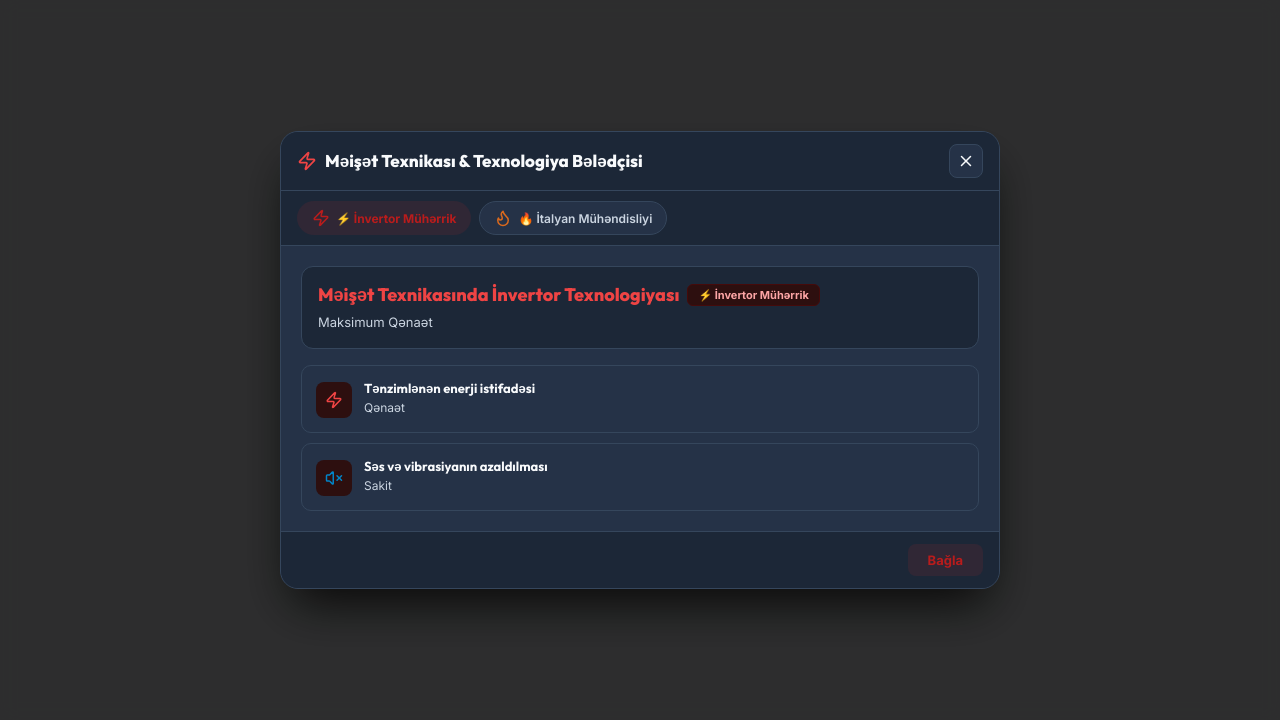
Sahara Electronic - UI Komponentləri və İstifadəçi Qarşılıqlı Əlaqə Testləri › InverterInfoModal komponenti açıldıqda texnologiya üstünlüklərini göstərməlidir və tablar arası keçid etməlidir
The image size is (1280, 720).
Check: the heading "Məişət Texnikasında İnvertor Texnologiyası" is shown, box [318, 283, 679, 306]
Check: the heading "Tənzimlənən enerji istifadəsi" is shown, box [364, 380, 535, 396]
Click on SABAF technology tab
Click the button "🔥 İtalyan Mühəndisliyi" at (573, 218), box [480, 201, 667, 235]
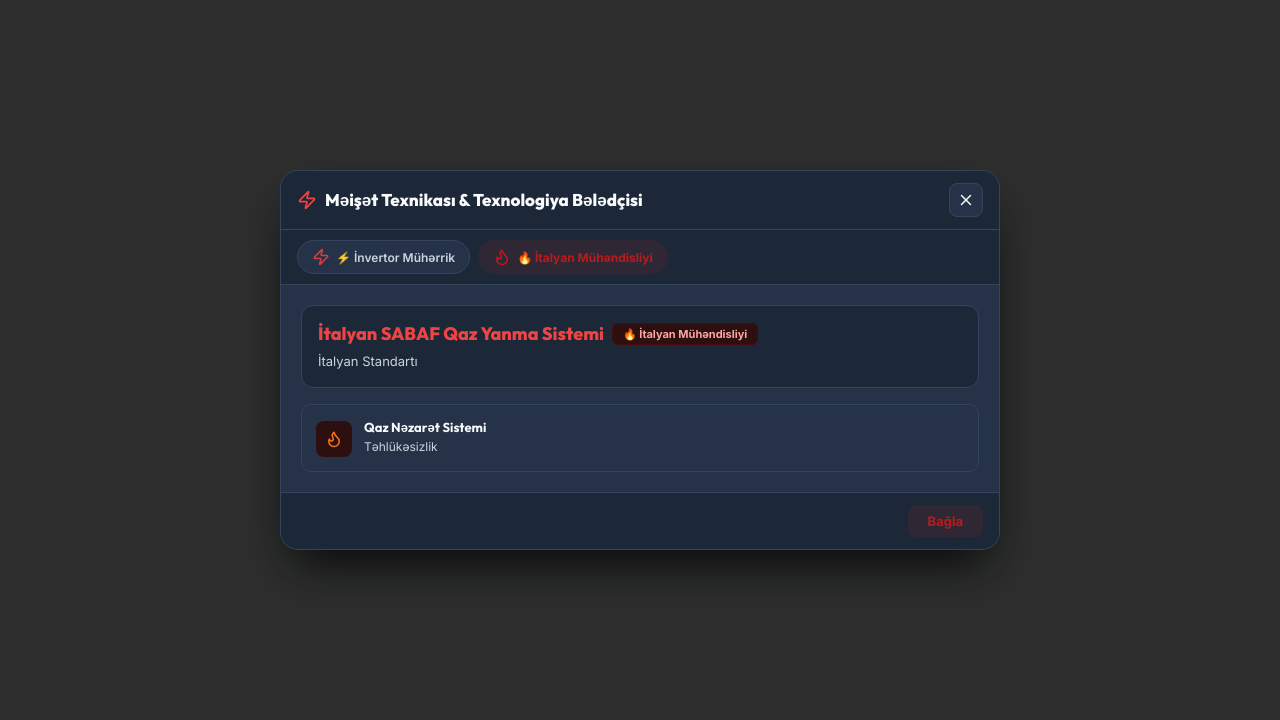
Check: the heading "İtalyan SABAF Qaz Yanma Sistemi" is shown, box [318, 322, 604, 345]
